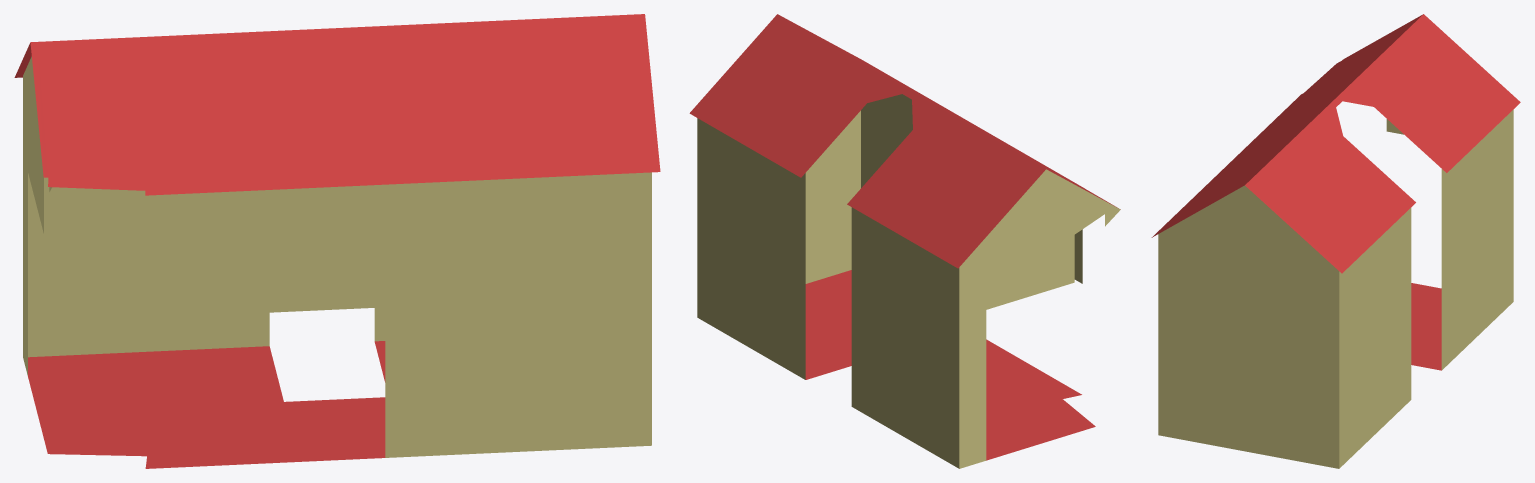
The picture shows the model from 3 angles, left to right: view 1: azimuth 30°, elevation 25°; view 2: azimuth 150°, elevation 25°; view 3: azimuth 270°, elevation 25°; orthographic projection. The views are drawn at different scales.
Bounding box in the file's own units: 21.76 × 16.62 × 13.32.
